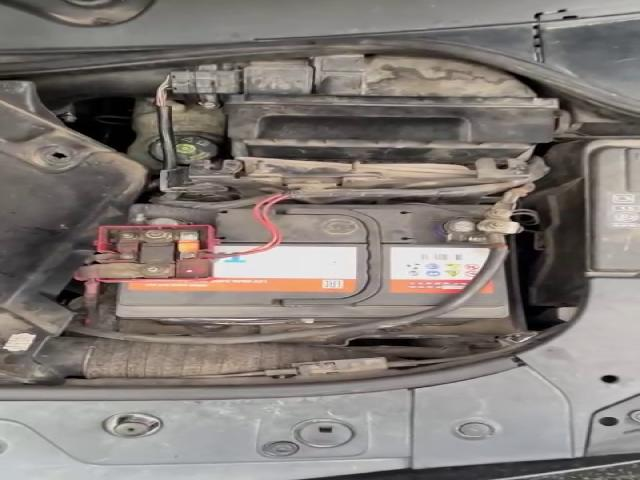accumulator: (89, 204, 509, 325)
fuse_box: (590, 147, 640, 270)
